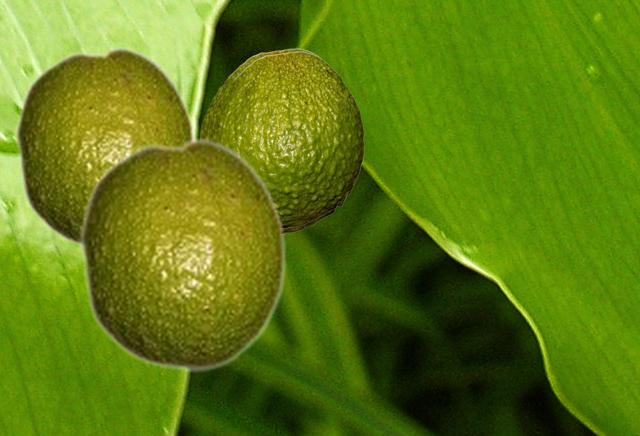avocado: (78, 136, 287, 373), (14, 45, 196, 249), (199, 48, 359, 233), (207, 51, 363, 227)
